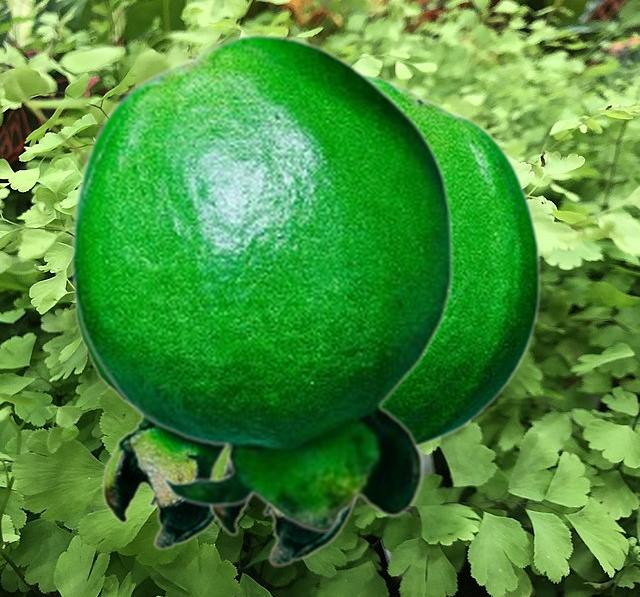guava: (68, 33, 454, 532), (205, 73, 541, 566), (73, 303, 219, 549)
